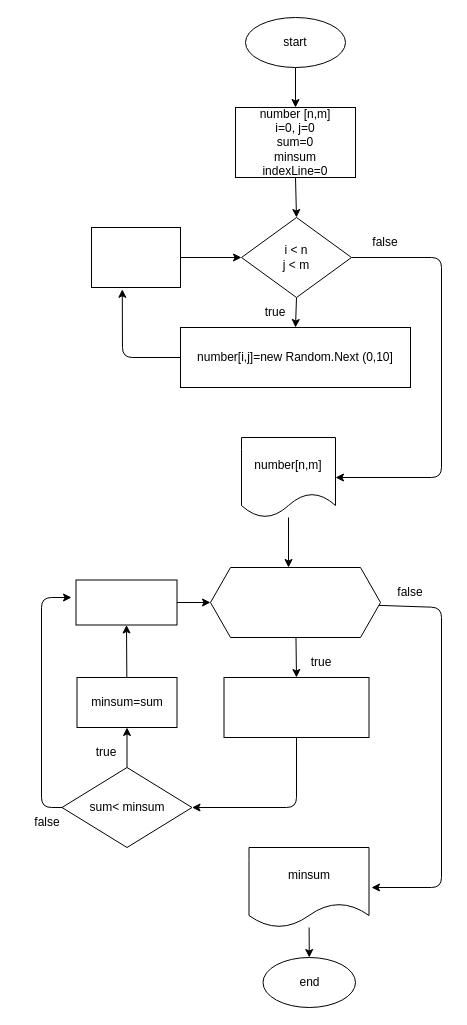
The diagram is 467 pixels wide and 1025 high, and some of its shapes have lost their labels. Here are the shapes that lost their labels. From the top down, the box of each, then its label:
(90, 226, 180, 288): i++ J++
(75, 579, 177, 625): indexLine++
(210, 566, 380, 638): i=0; i< n ; i ++; j=0; j< n ; j ++;
(223, 676, 369, 738): sum=sum+number [n,m]
